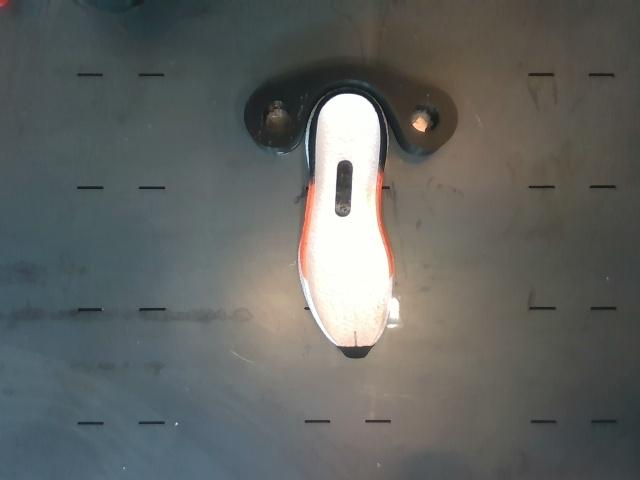shoes: (306, 93, 390, 359)
